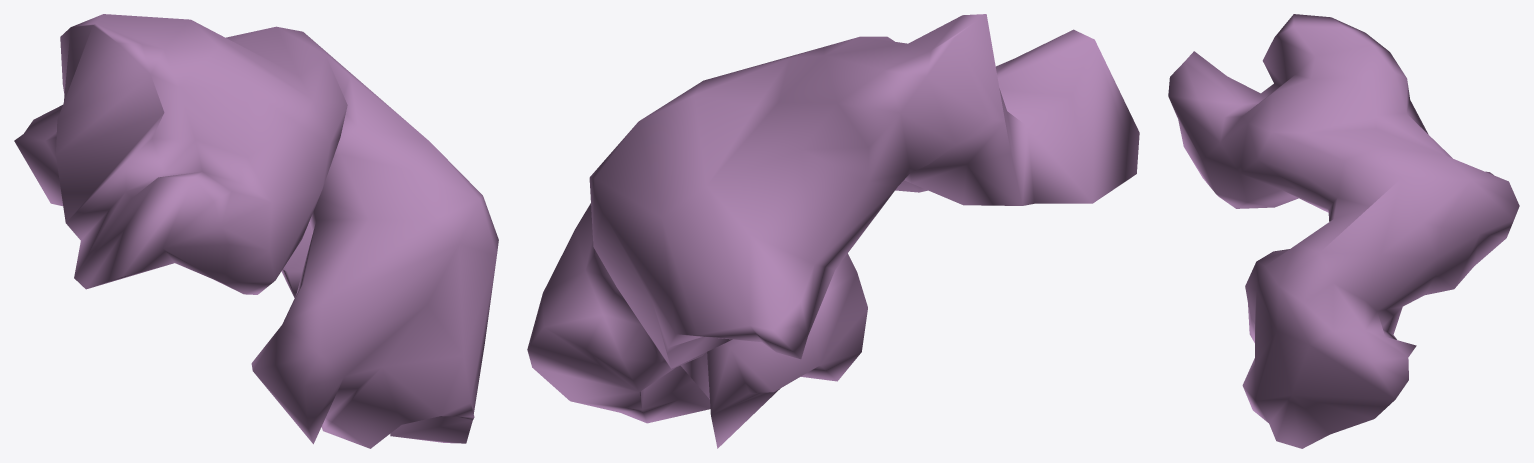
The picture shows the model from 3 angles, left to right: view 1: azimuth 30°, elevation 25°; view 2: azimuth 150°, elevation 25°; view 3: azimuth 270°, elevation 25°; orthographic projection. The views are drawn at different scales.
Parts seen in each view (by area): view 1: 右侧外侧沟后支; view 2: 右侧外侧沟后支; view 3: 右侧外侧沟后支.
Boxes of the visible parts, bbox=[...] form: 右侧外侧沟后支: bbox=[14, 14, 498, 448]; 右侧外侧沟后支: bbox=[527, 14, 1139, 448]; 右侧外侧沟后支: bbox=[1168, 14, 1519, 448].
Bounding box in the file's own units: 0.0362 × 0.0347 × 0.034.
